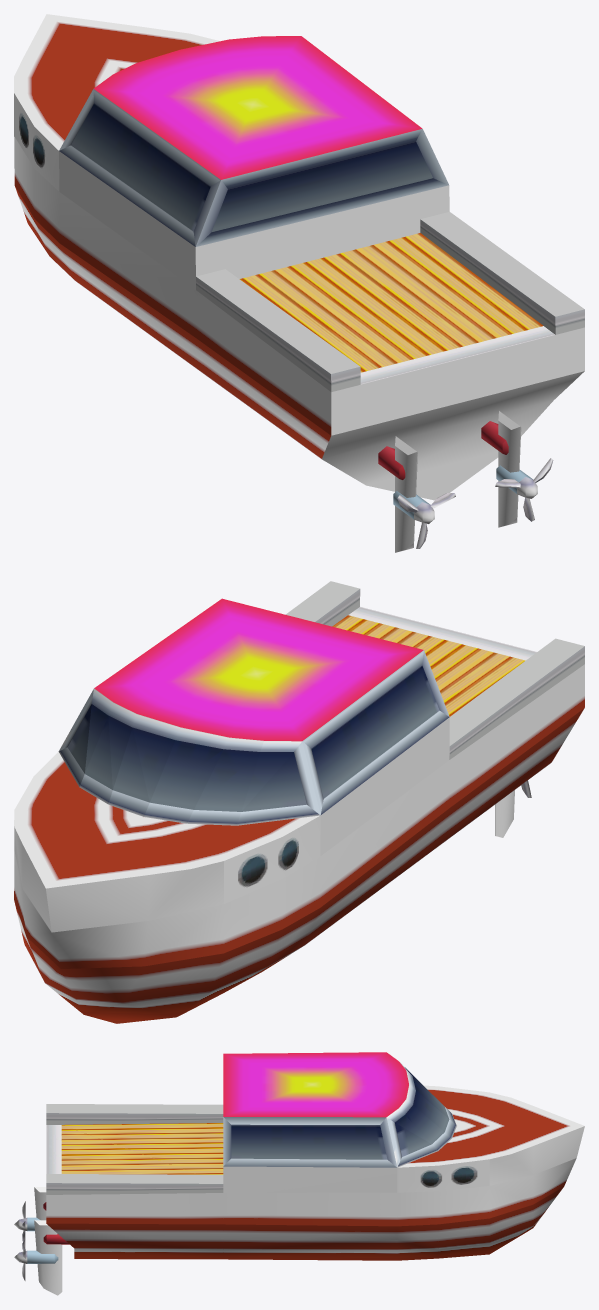
Rendered from riccoboats.dae.
3 views of the same model, one above another, from view 1: azimuth 30°, elevation 25°; view 2: azimuth 150°, elevation 25°; view 3: azimuth 270°, elevation 25° (orthographic). The views are drawn at different scales.
Parts seen in each view (by area): view 1: n0b0; view 2: n0b0; view 3: n0b0.
Part boxes in pixels (x1,y1,x2,y2): n0b0: (14, 14, 584, 552); n0b0: (14, 581, 584, 1023); n0b0: (14, 1052, 584, 1295).
Bounding box in the file's own units: 500 × 539 × 1444.
1 material, 1 textured.
